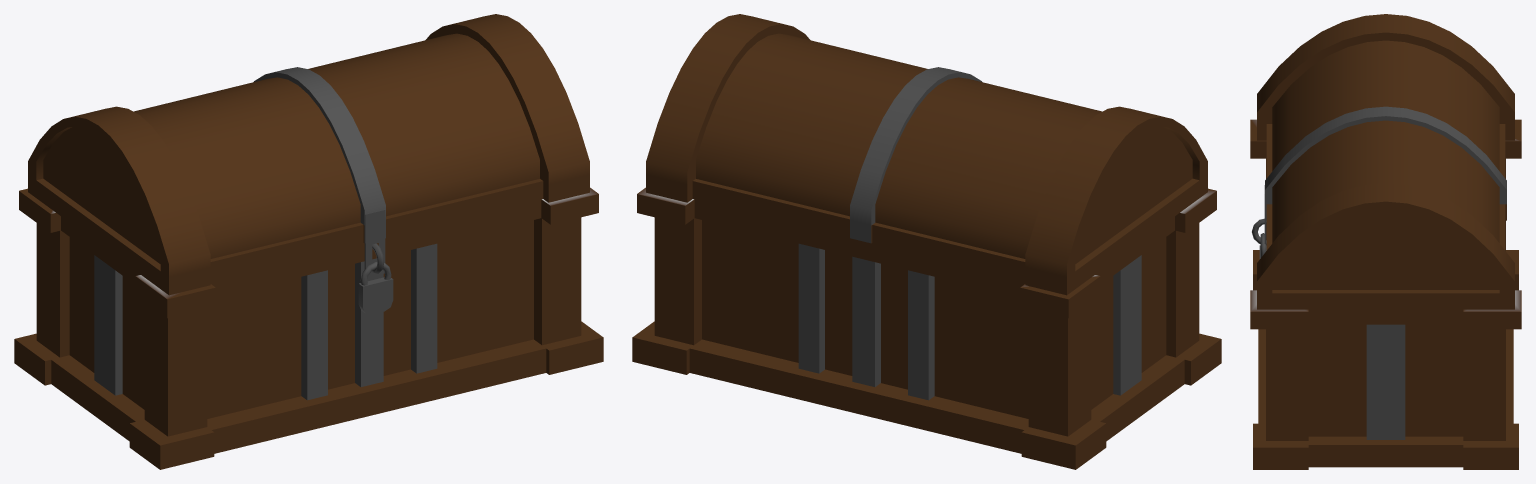
File: Chest.fbx
3 renders of one model, left to right at view 1: azimuth 30°, elevation 25°; view 2: azimuth 150°, elevation 25°; view 3: azimuth 270°, elevation 25°, orthographic. The views are drawn at different scales.
Parts seen in each view (by area): view 1: Cube; view 2: Cube; view 3: Cube.
Part boxes in pixels (left/top/right/bottom): Cube: left=14, top=14, right=603, bottom=469; Cube: left=632, top=14, right=1221, bottom=469; Cube: left=1250, top=14, right=1521, bottom=469.
Size of the model in its own units: 445 by 277 by 258.
